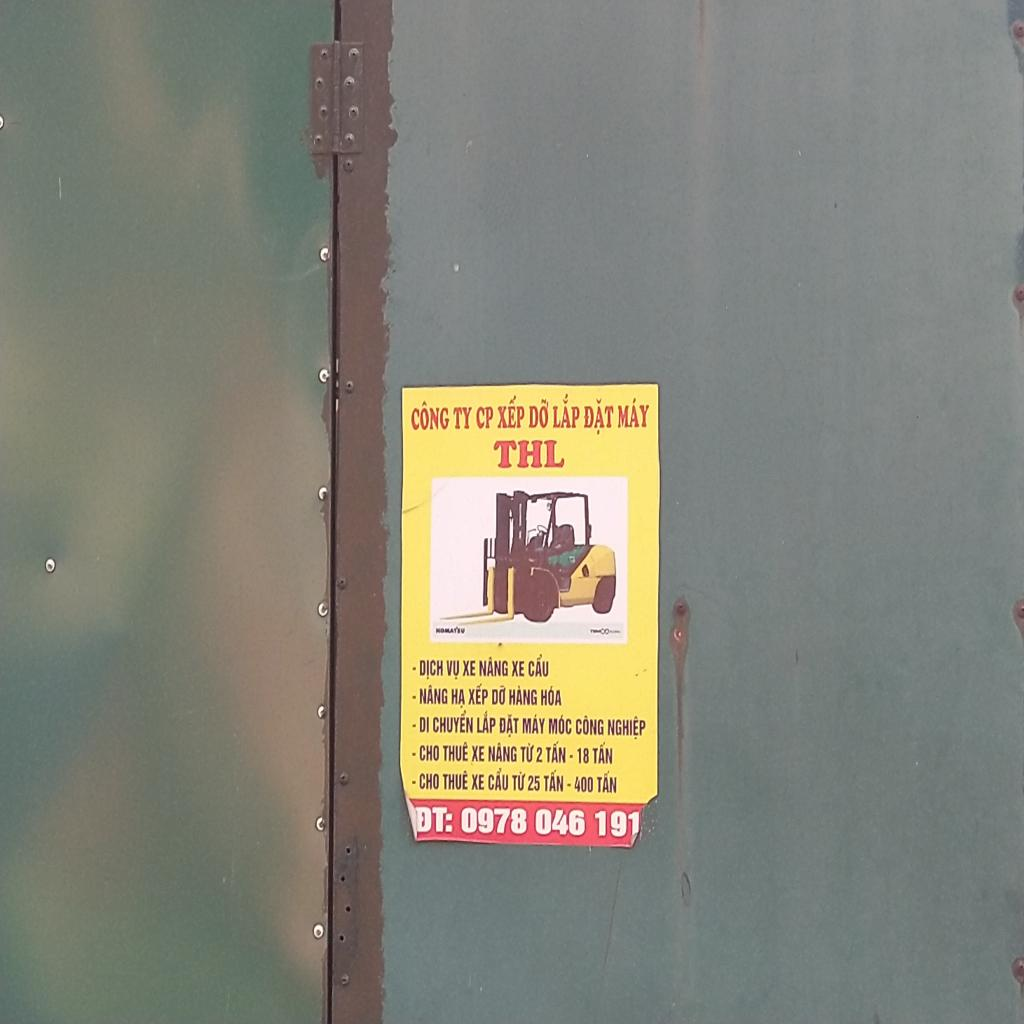text: (492, 436, 568, 472), (410, 398, 450, 435), (582, 394, 616, 437), (414, 802, 455, 836), (616, 395, 651, 431), (607, 712, 648, 741), (432, 708, 474, 736), (551, 391, 580, 431), (496, 394, 526, 431), (526, 396, 550, 429), (487, 741, 518, 764), (575, 714, 605, 737), (478, 656, 509, 678), (508, 685, 538, 707), (452, 402, 474, 431), (419, 684, 448, 706), (442, 740, 469, 763), (548, 712, 572, 737), (419, 657, 445, 680), (498, 712, 520, 739), (528, 653, 550, 679), (442, 769, 468, 791), (596, 769, 618, 795), (540, 684, 564, 707), (488, 767, 510, 792), (467, 682, 489, 706), (522, 714, 546, 736), (546, 740, 568, 764), (476, 710, 496, 736), (592, 742, 614, 765), (544, 768, 564, 793), (573, 773, 595, 795), (475, 404, 494, 429), (418, 742, 441, 762), (419, 770, 440, 791), (450, 686, 467, 709), (519, 741, 535, 764), (491, 684, 507, 706), (435, 625, 466, 636), (446, 658, 460, 681), (512, 769, 526, 792), (462, 657, 476, 679), (470, 772, 485, 792), (471, 744, 486, 762), (526, 774, 541, 792), (511, 659, 525, 678), (577, 745, 590, 765), (418, 715, 430, 735), (536, 746, 544, 764), (411, 664, 417, 672), (411, 722, 417, 729), (411, 751, 417, 758), (411, 694, 417, 700), (566, 782, 572, 788), (411, 780, 417, 785), (569, 754, 574, 759)
